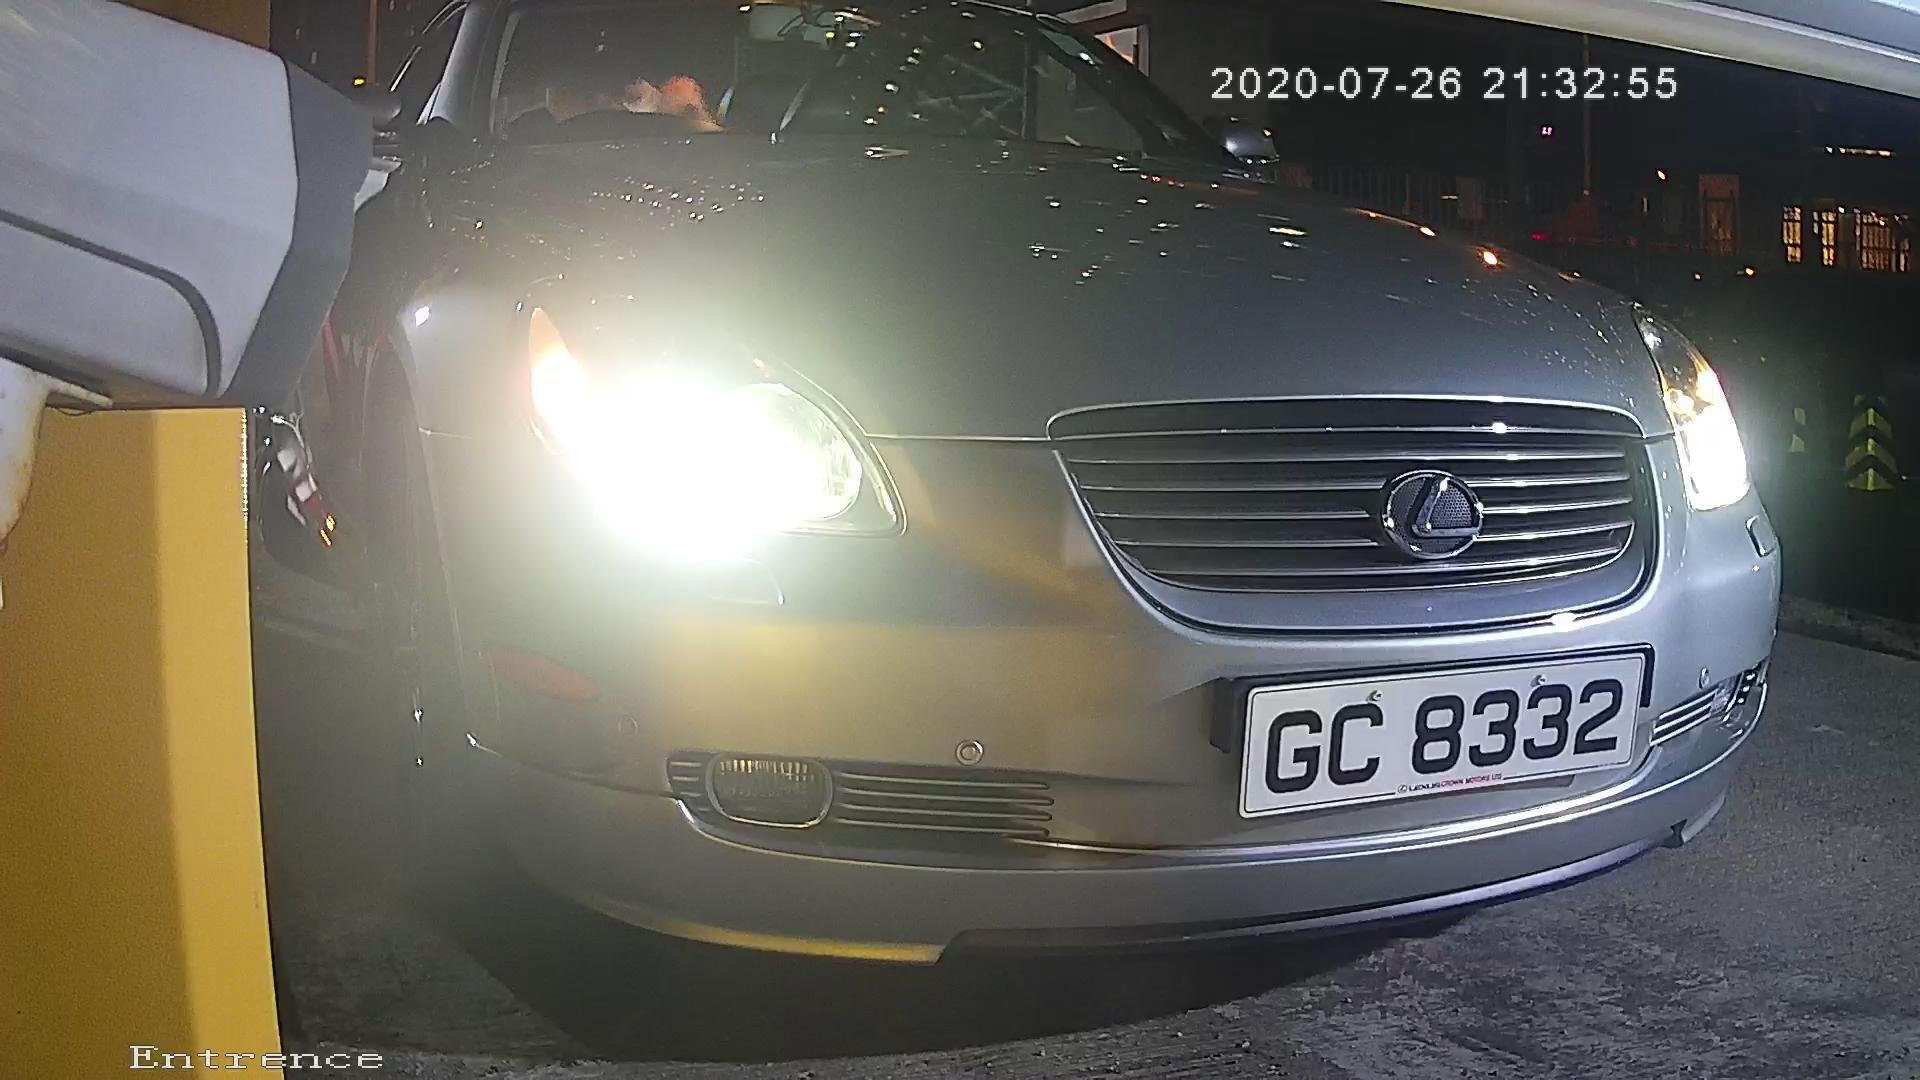Car: (129, 44, 1835, 994)
License Plate: (1218, 632, 1646, 825)
